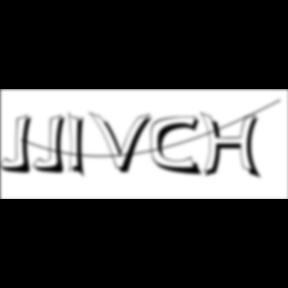C: (150, 115, 206, 178)
H: (200, 112, 266, 182)
I: (68, 110, 92, 182)
J: (0, 114, 38, 176), (34, 114, 72, 176)
V: (89, 110, 156, 176)
